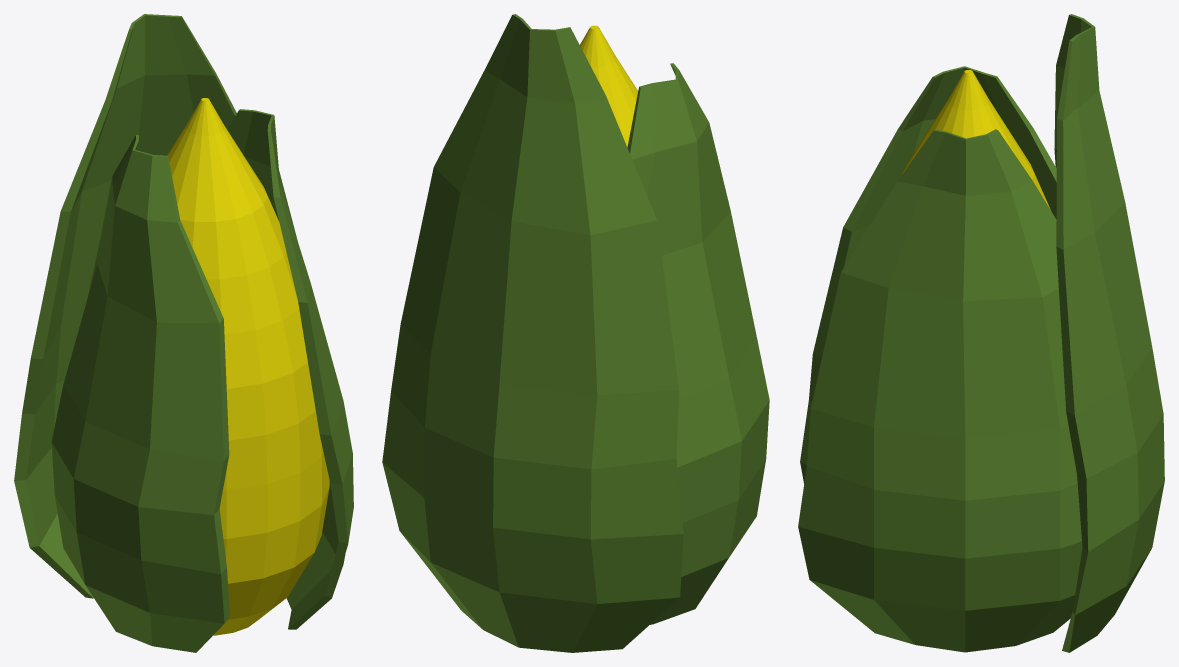
The model's file is IntentoElote.fbx.
3 renders of one model, left to right at view 1: azimuth 30°, elevation 25°; view 2: azimuth 150°, elevation 25°; view 3: azimuth 270°, elevation 25°, orthographic. The views are drawn at different scales.
Parts seen in each view (by area): view 1: Maiz3, Maiz1; view 2: Maiz3, Maiz1; view 3: Maiz3, Maiz1.
Part boxes in pixels (box(x1,y1,x2,y2)): Maiz3: box(14, 14, 353, 652); Maiz1: box(167, 98, 329, 635); Maiz3: box(382, 14, 769, 652); Maiz1: box(580, 25, 638, 146); Maiz3: box(798, 14, 1164, 652); Maiz1: box(901, 70, 1050, 209).
Bounding box in the file's own units: 73.57 × 143 × 81.09.
